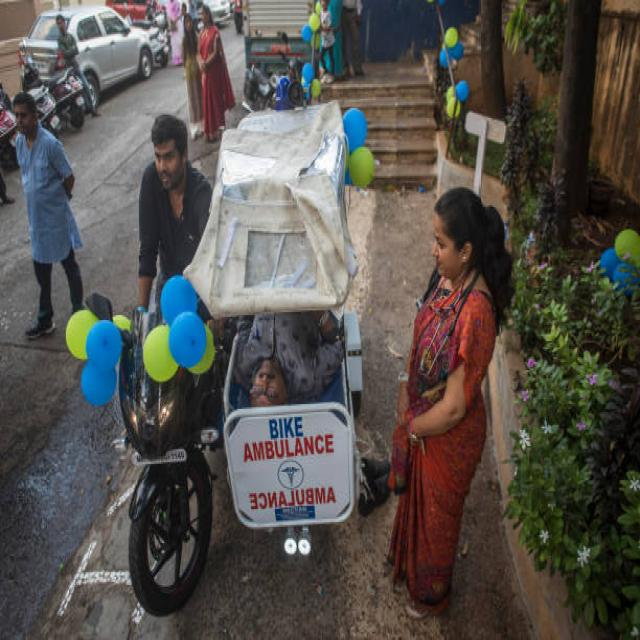ambulance: (245, 419, 336, 524)
